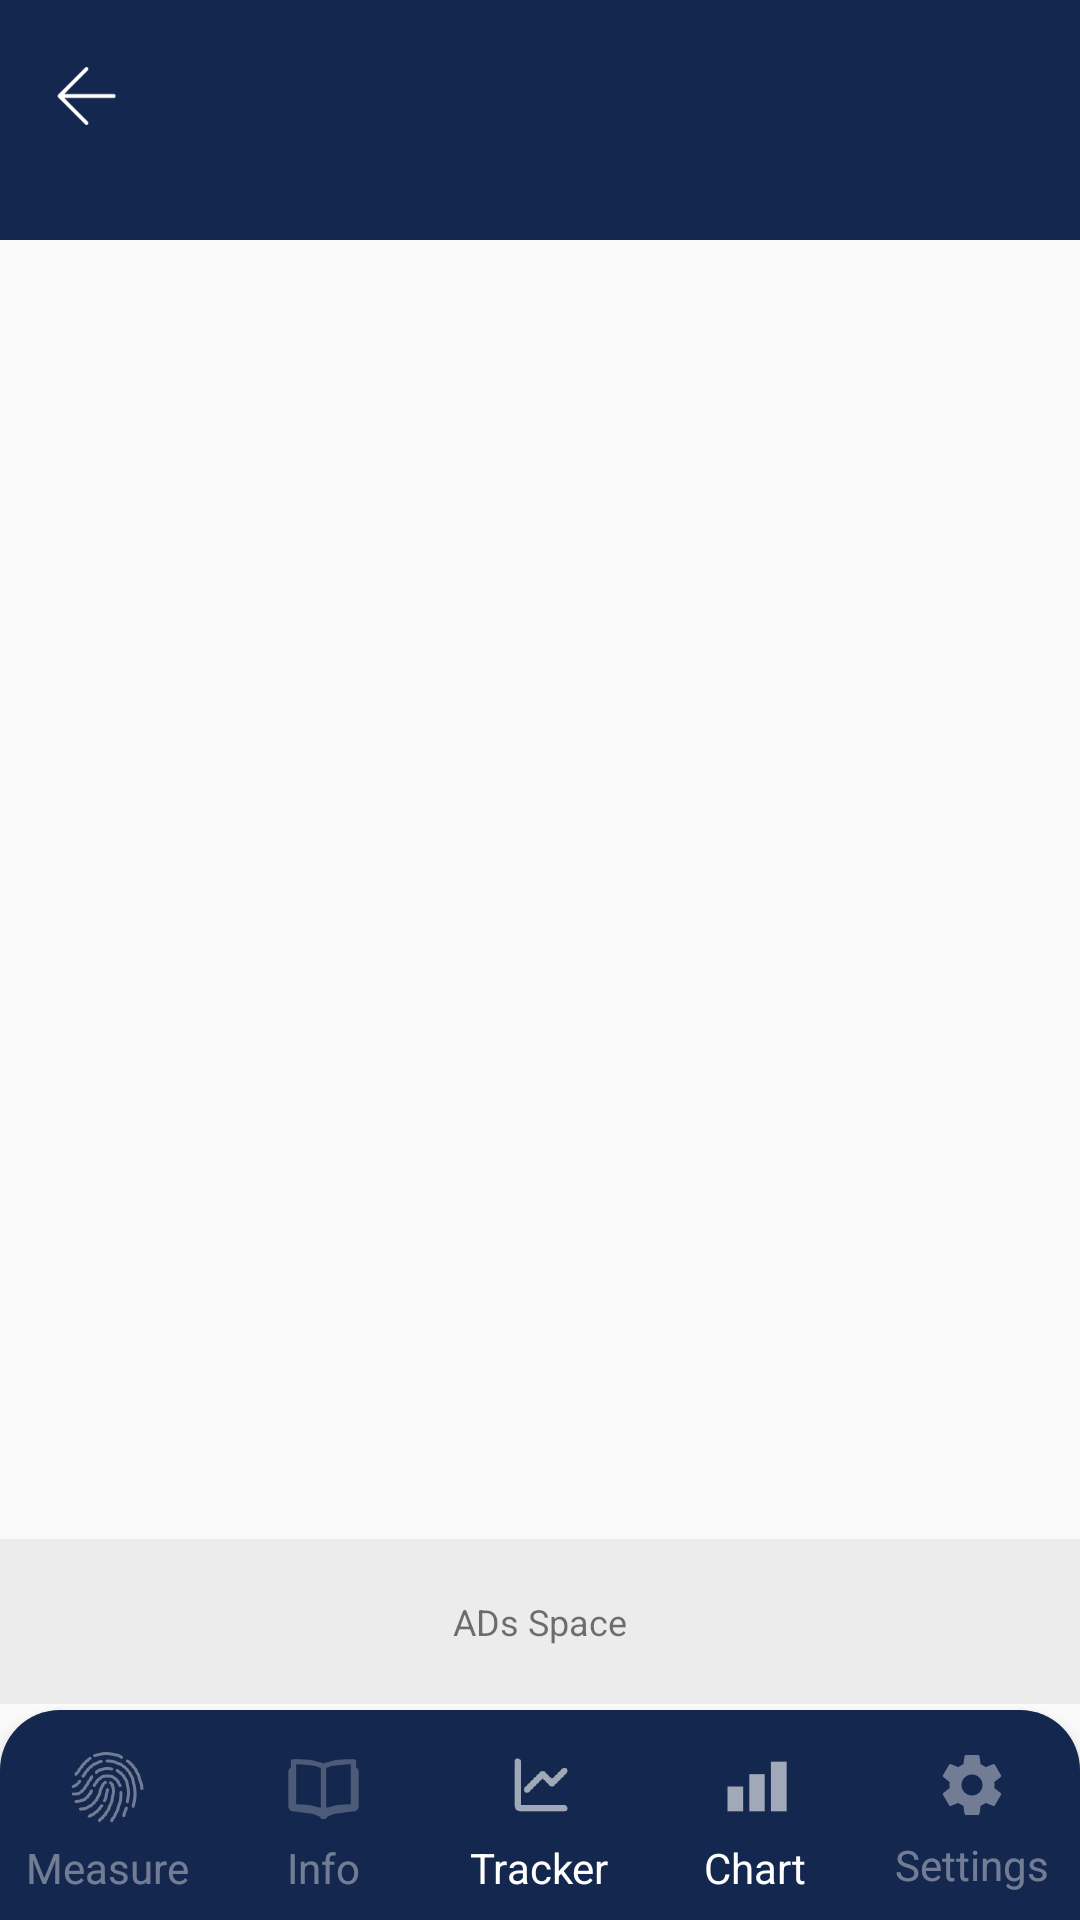

Icon click points for this 1080w x 1920h phone screenshot, format [x,y]:
back: [86,96]
book: [323,1789]
finger: [107,1787]
